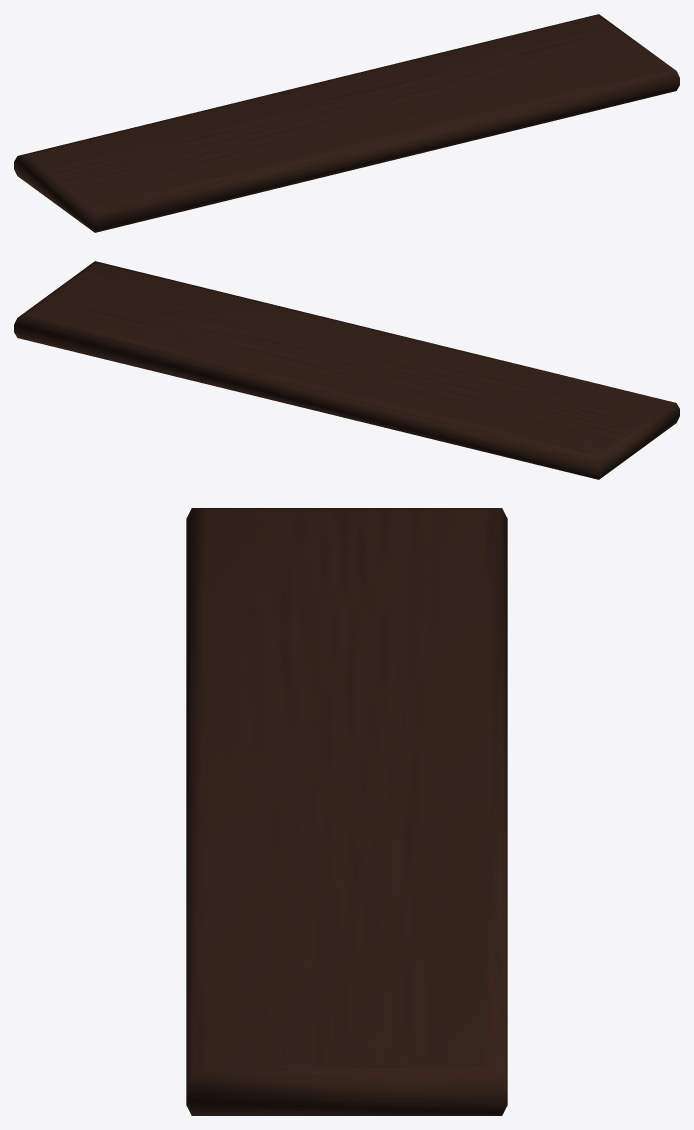
Rendered from Straight_Shelving_03.FBX.
3 renders of one model, top to bottom at view 1: azimuth 30°, elevation 25°; view 2: azimuth 150°, elevation 25°; view 3: azimuth 270°, elevation 25°, orthographic. The views are drawn at different scales.
Parts seen in each view (by area): view 1: Shelf_Straight; view 2: Shelf_Straight; view 3: Shelf_Straight.
Boxes of the visible parts, x1=… form: Shelf_Straight: x1=14, y1=14, x2=679, y2=232; Shelf_Straight: x1=14, y1=261, x2=679, y2=479; Shelf_Straight: x1=186, y1=508, x2=507, y2=1115.
Size of the model in its own units: 200 by 8 by 47.55.
